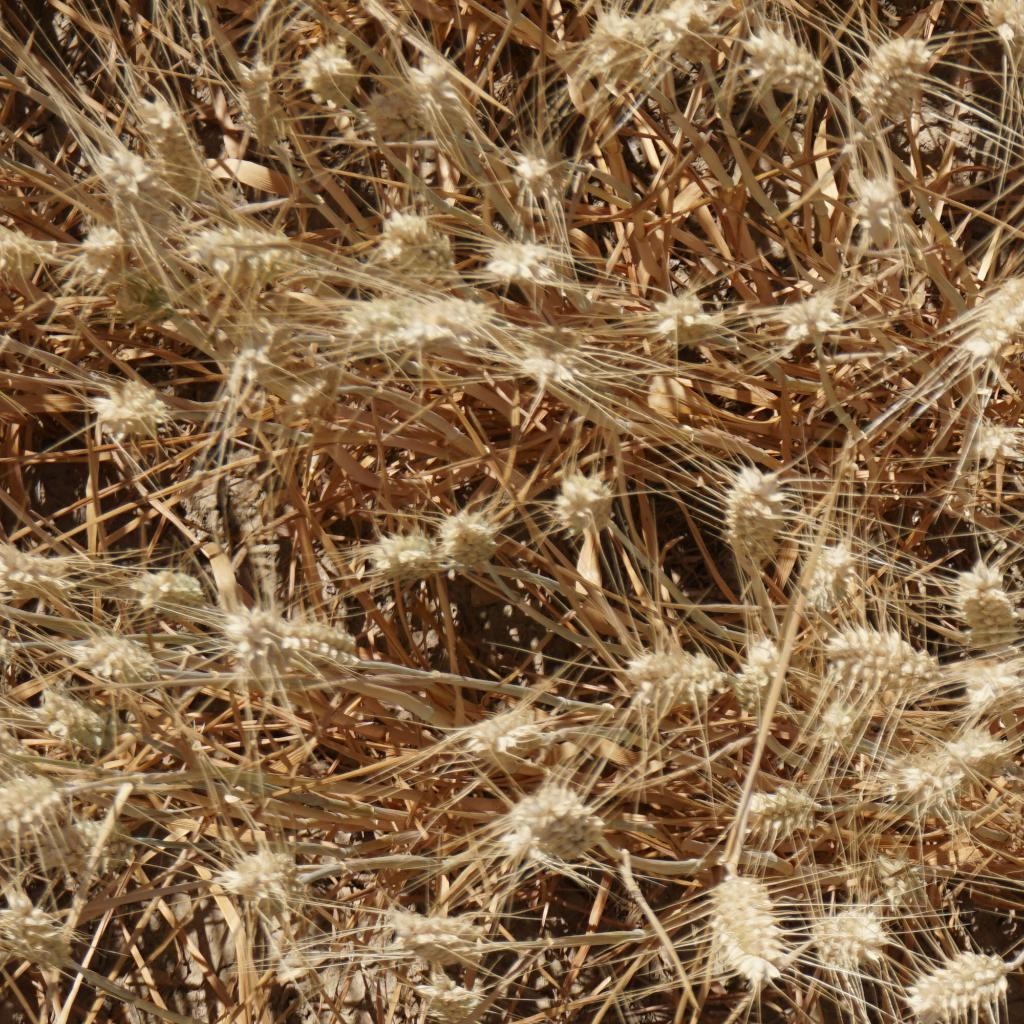0-0: (185, 200, 325, 293), (492, 785, 616, 886), (826, 608, 941, 710), (582, 7, 687, 112), (909, 931, 1024, 1024), (801, 878, 898, 982), (33, 816, 166, 890), (31, 687, 137, 779), (356, 281, 486, 356), (709, 864, 785, 990), (718, 466, 807, 567), (626, 637, 722, 722), (935, 265, 1024, 356), (903, 716, 1010, 791), (740, 17, 828, 106), (728, 770, 815, 860), (850, 31, 925, 135), (58, 610, 159, 687), (110, 559, 218, 630), (377, 186, 462, 275), (80, 362, 165, 451), (460, 695, 547, 779), (557, 464, 635, 557), (222, 828, 305, 913), (941, 557, 1024, 640), (393, 891, 490, 961), (287, 35, 366, 120), (123, 84, 214, 155), (231, 44, 281, 170), (830, 155, 905, 238), (482, 226, 574, 291), (411, 956, 498, 1024), (449, 505, 521, 586), (74, 134, 165, 198), (730, 624, 787, 726), (65, 200, 139, 277), (504, 316, 577, 393), (372, 519, 439, 602), (212, 598, 295, 665), (395, 51, 470, 121), (803, 537, 872, 612), (675, 6, 732, 96), (0, 903, 78, 968), (642, 281, 712, 352), (512, 133, 577, 207), (0, 785, 67, 854), (953, 407, 1024, 470), (972, 0, 1024, 84), (0, 540, 78, 596), (956, 653, 1024, 714), (779, 287, 835, 352), (0, 215, 56, 278)
